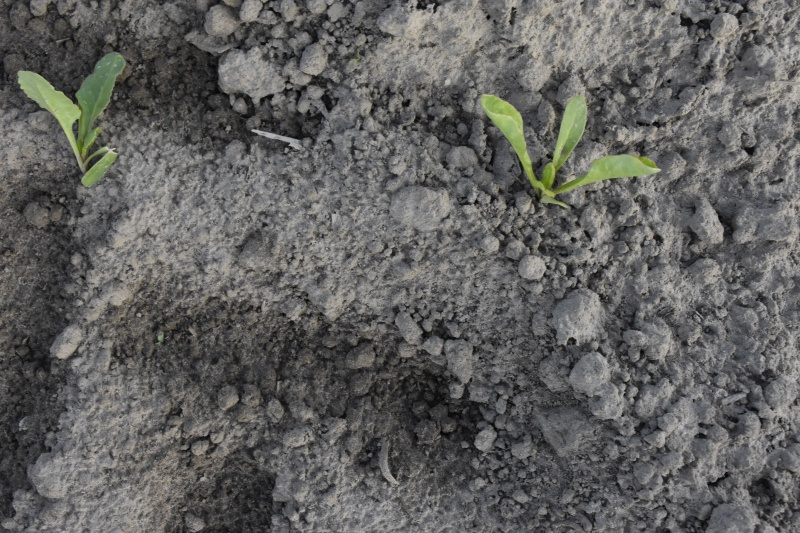sugar beet: (477, 89, 662, 206), (14, 51, 127, 194)
